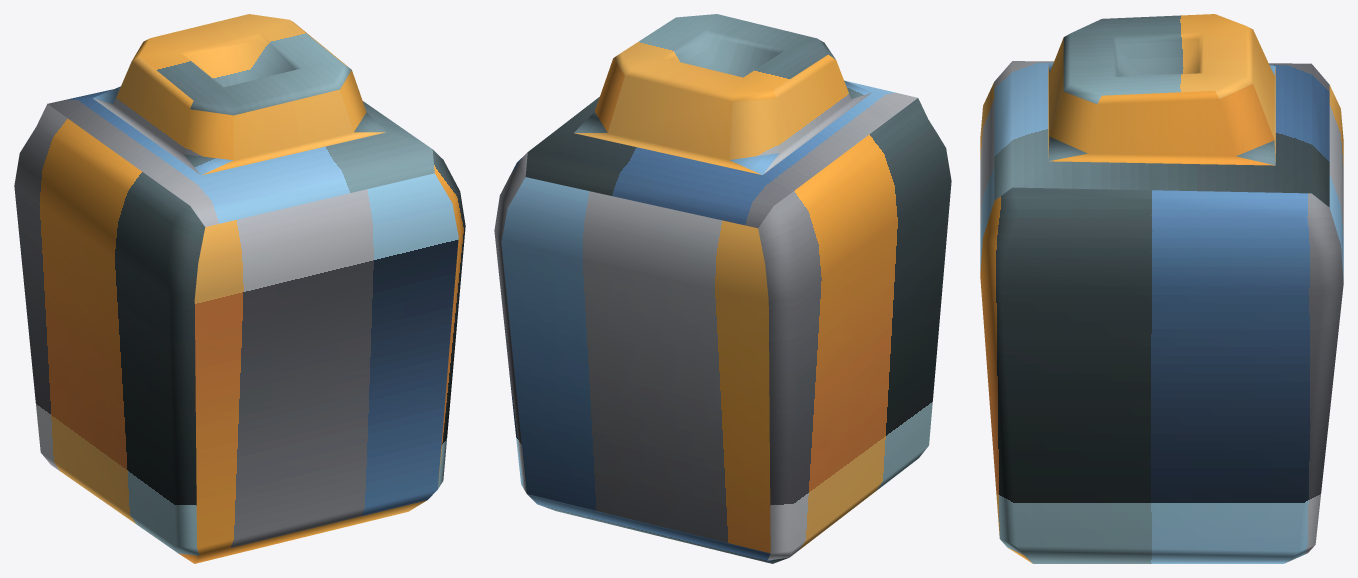
Rendered from CharSkyKid_Prop_AP10Jar_01.glb.
The picture shows the model from 3 angles, left to right: view 1: azimuth 30°, elevation 25°; view 2: azimuth 150°, elevation 25°; view 3: azimuth 270°, elevation 25°; orthographic projection. The views are drawn at different scales.
Parts seen in each view (by area): view 1: CharSkyKid_Prop_AP10Jar_01; view 2: CharSkyKid_Prop_AP10Jar_01; view 3: CharSkyKid_Prop_AP10Jar_01.
Part boxes in pixels (x1,y1,x2,y2): CharSkyKid_Prop_AP10Jar_01: [14, 14, 465, 563]; CharSkyKid_Prop_AP10Jar_01: [494, 14, 951, 563]; CharSkyKid_Prop_AP10Jar_01: [980, 14, 1343, 563].
Bounding box in the file's own units: 0.2853 × 0.4003 × 0.2879.
Materials: 1 (1 with a texture image).
